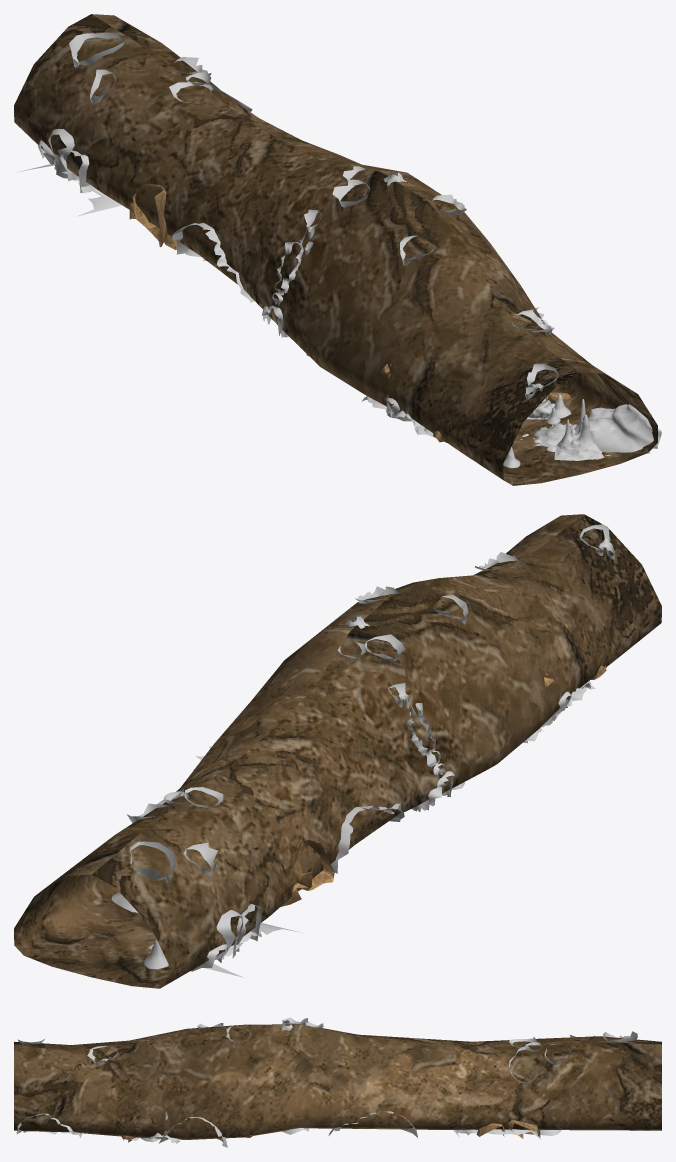
File: cave_straight.dae
3 renders of one model, top to bottom at view 1: azimuth 30°, elevation 25°; view 2: azimuth 150°, elevation 25°; view 3: azimuth 270°, elevation 25°, orthographic. The views are drawn at different scales.
Visible parts, largest first — view 1: Cave_Straight, Stalagmite, TowerBase, RockPile, Rocks; view 2: Cave_Straight, Stalagmite, TowerBase, Rocks, RockPile; view 3: Cave_Straight, Stalagmite, TowerBase, Rocks, RockPile.
Part boxes in pixels (x1,y1,x2,y2): Cave_Straight: (14,14,657,485); Stalagmite: (38,32,593,468); TowerBase: (172,171,661,453); RockPile: (19,164,610,460); Rocks: (129,183,570,442); Cave_Straight: (14,514,661,988); Stalagmite: (111,524,615,971); TowerBase: (193,615,454,873); Rocks: (281,665,606,906); RockPile: (148,683,595,977); Cave_Straight: (14,1024,661,1139); Stalagmite: (17,1017,637,1143); TowerBase: (16,1020,417,1147); Rocks: (121,1120,540,1142); RockPile: (45,1129,541,1140).
Bounding box in the file's own units: 266 × 1000 × 179.
